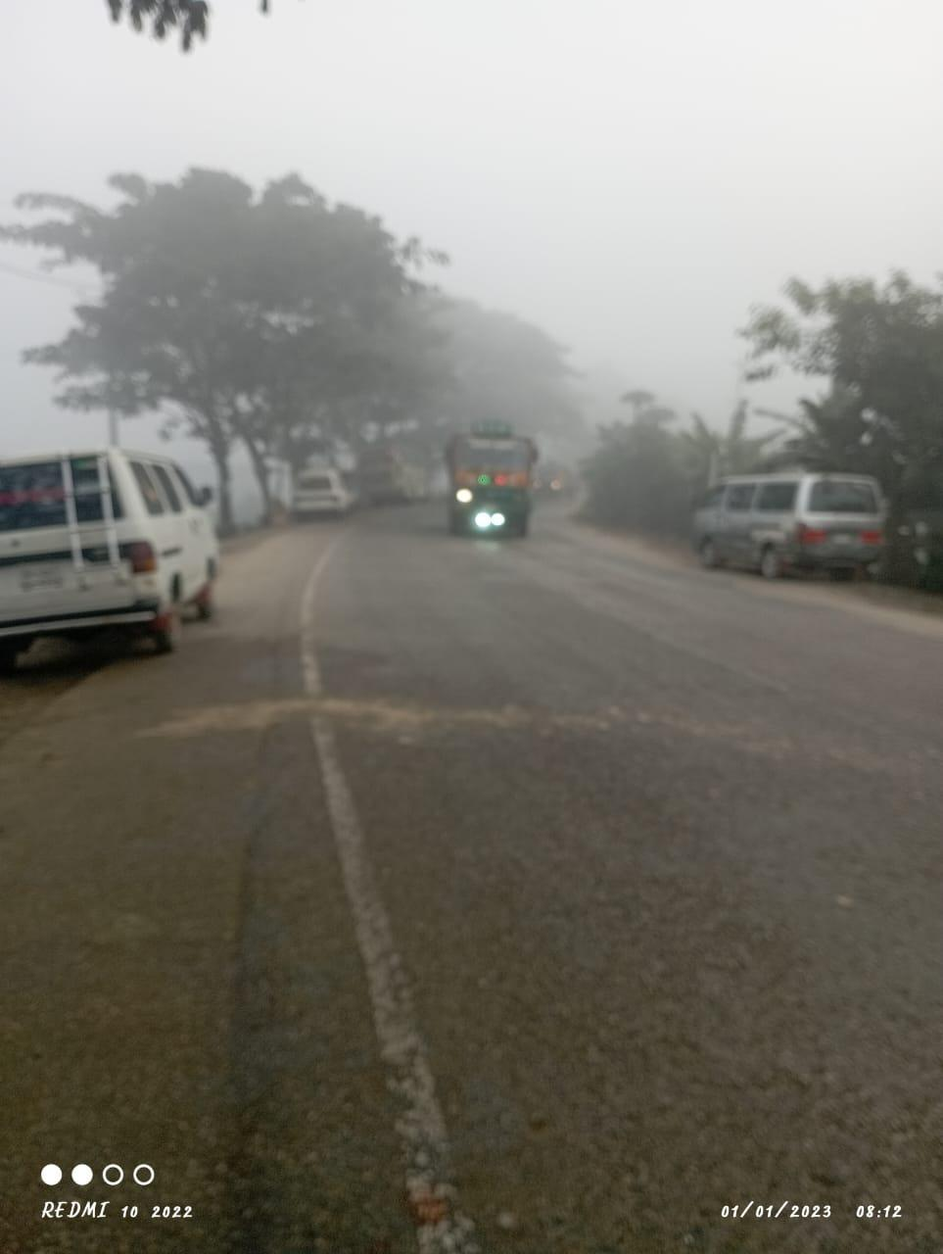Car: (6, 451, 236, 657), (682, 458, 894, 600), (278, 455, 354, 525)
Truck: (445, 418, 544, 544)
